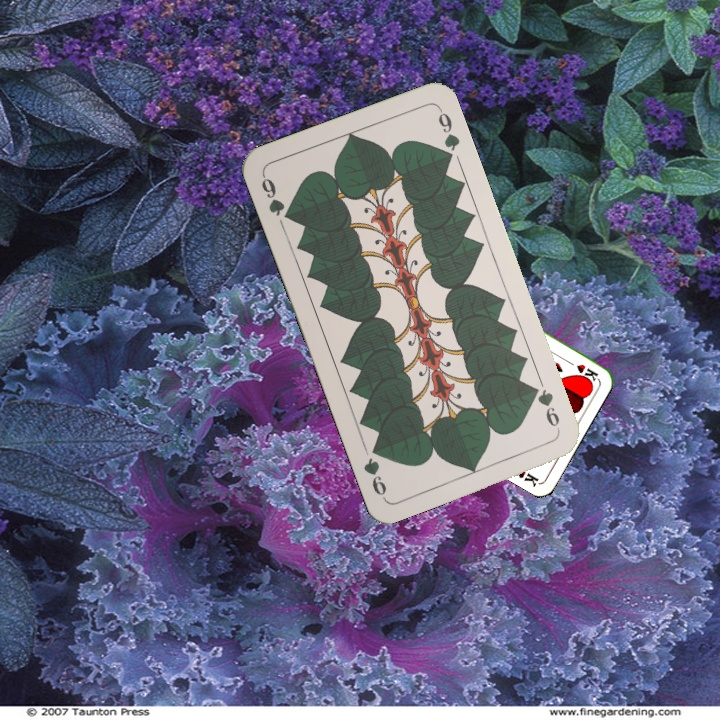G9: (257, 171, 295, 224), (527, 381, 562, 429)
HK: (562, 356, 601, 384)
